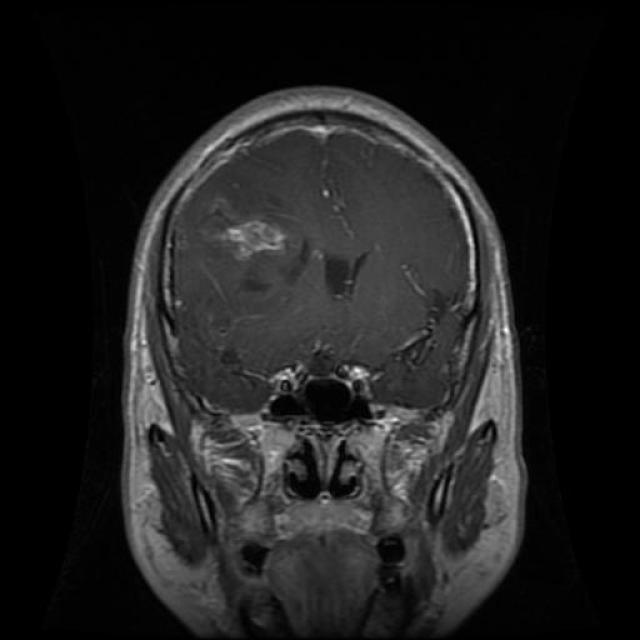glioma: (221, 202, 304, 272)
